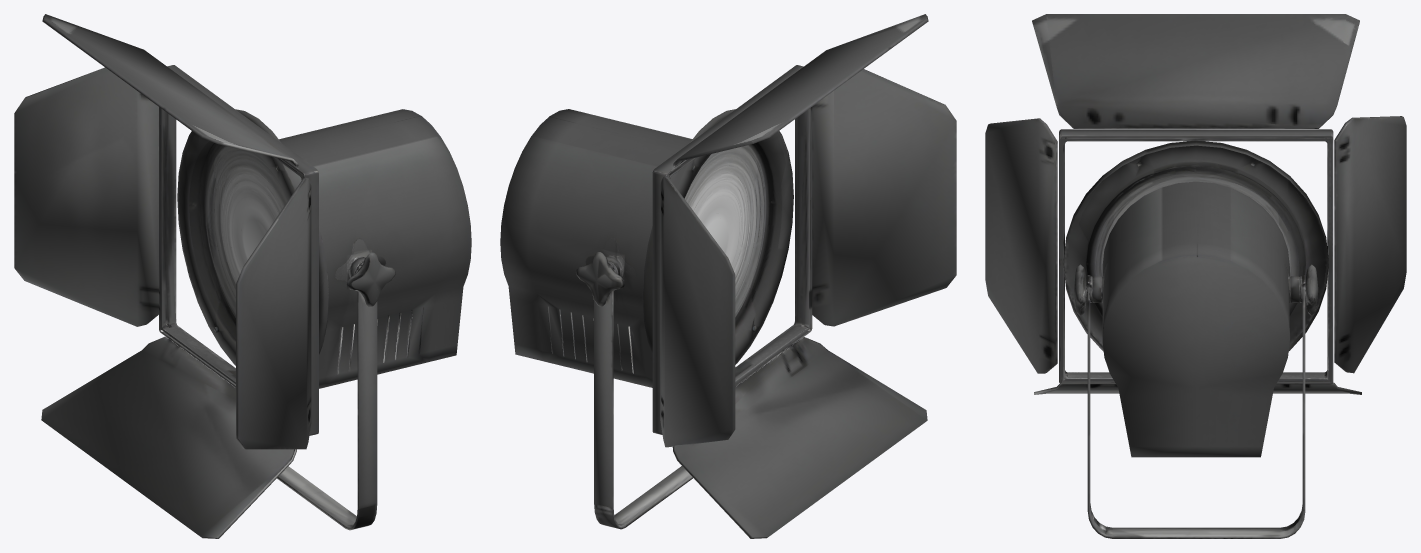
The model's file is spot2.glb.
3 renders of one model, left to right at view 1: azimuth 30°, elevation 25°; view 2: azimuth 150°, elevation 25°; view 3: azimuth 270°, elevation 25°, orthographic. The views are drawn at different scales.
Bounding box in the file's own units: 1.36 × 2 × 1.76.
Materials: 1 (1 with a texture image).
